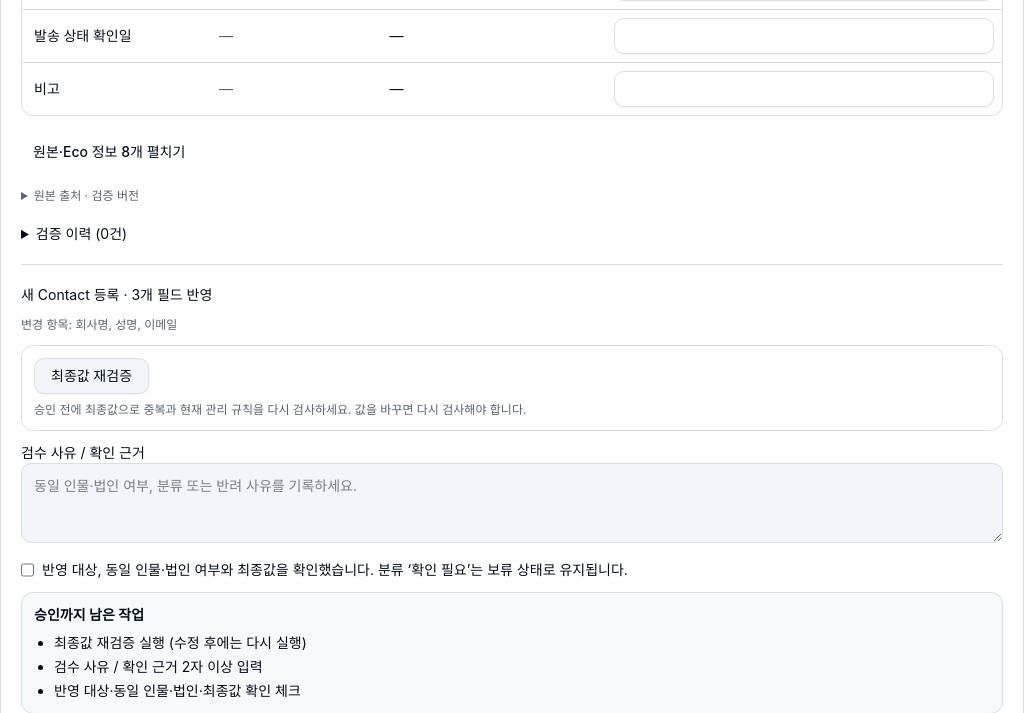
Test case: explains pending duplicate resolution and shows remaining approval tasks
(page scrolled)
Click the button "최종값 재검증" at (92, 376), box top-left (34, 358), bottom-right (149, 394)
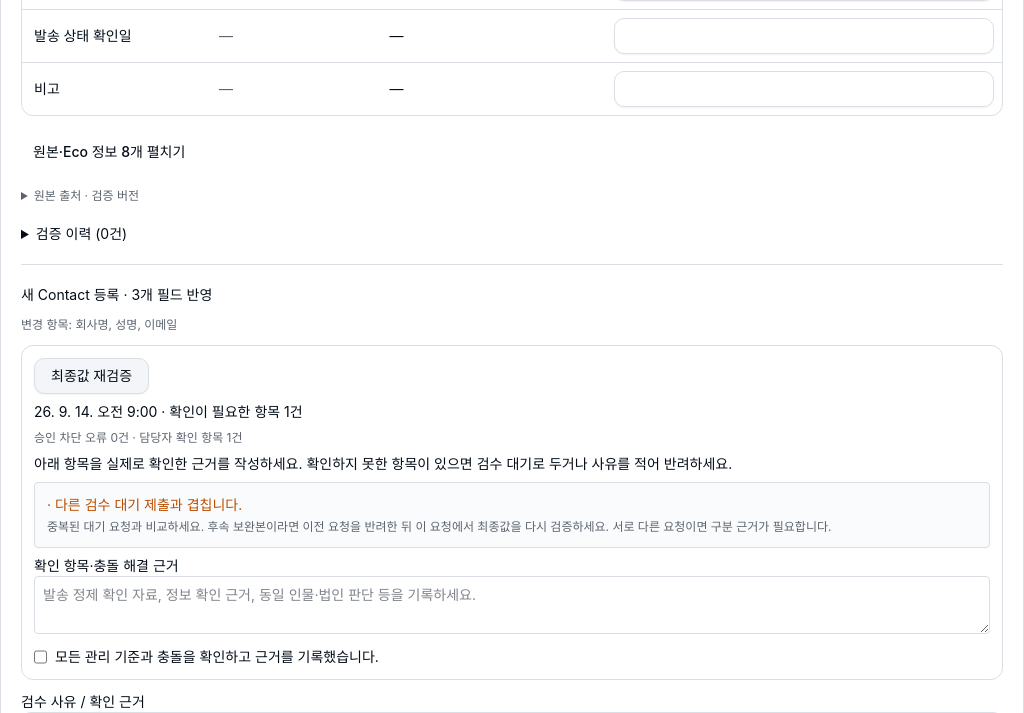
Now the text "후속 보완본이라면 이전 요청을 반려" is shown, box top-left (47, 519), bottom-right (831, 534)
Now the text "승인 차단 오류 0건 · 담당자 확인 항목 1건" is shown, box top-left (34, 430), bottom-right (242, 445)
